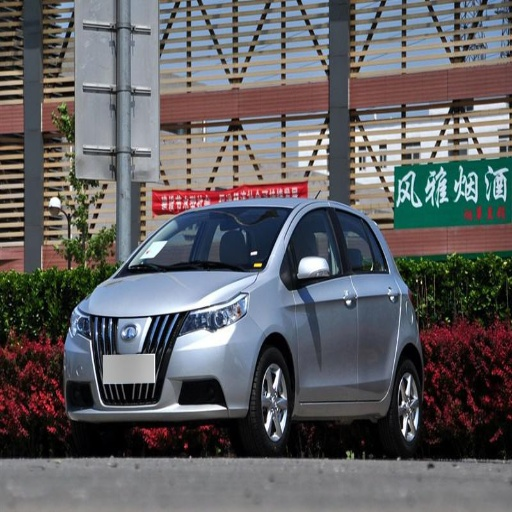front_bumper: (62, 311, 260, 421)
front_glass: (118, 207, 291, 276)
front_left_door: (286, 205, 359, 400)
